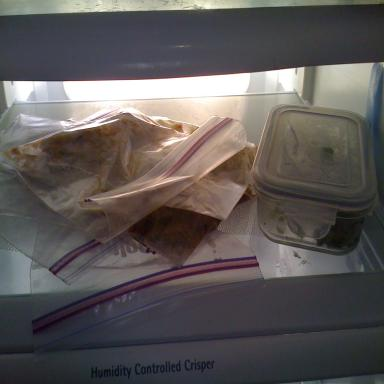plasticbag: (0, 114, 250, 290), (28, 219, 270, 368), (0, 104, 249, 247)
